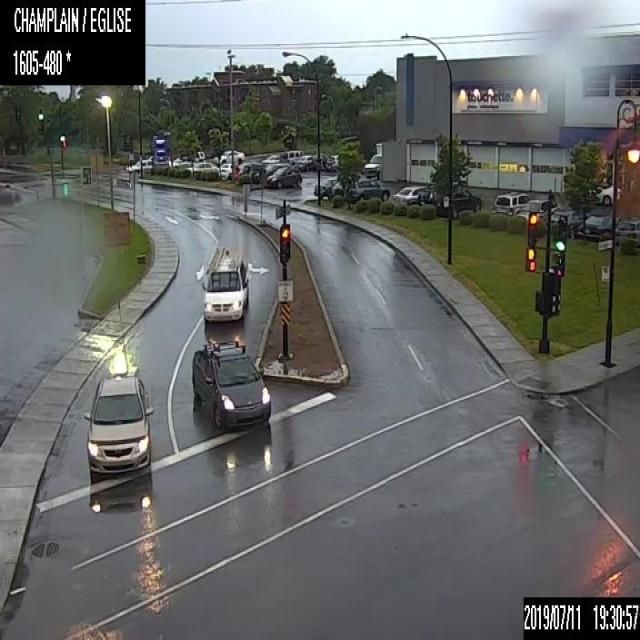vehicle: (189, 336, 273, 428), (84, 372, 153, 482), (198, 242, 249, 322), (432, 189, 481, 218), (550, 208, 588, 237), (576, 214, 616, 241), (515, 198, 558, 220), (493, 191, 530, 216), (348, 178, 390, 200), (266, 164, 301, 187), (254, 162, 289, 182), (615, 220, 639, 244), (392, 186, 425, 203), (238, 162, 266, 182), (313, 176, 337, 198), (213, 148, 245, 164), (185, 161, 217, 174), (418, 187, 442, 204), (126, 158, 152, 173), (279, 148, 303, 164), (218, 162, 242, 178), (329, 180, 348, 199), (293, 154, 315, 170), (181, 150, 204, 161), (116, 168, 130, 186), (325, 153, 339, 170), (261, 154, 279, 162)
